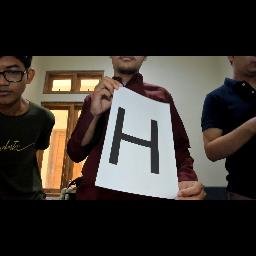h: (106, 101, 168, 185)
